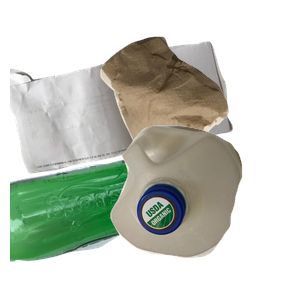glass: (10, 149, 203, 300)
paper: (10, 39, 236, 205)
plastic: (108, 123, 300, 300)
trash: (98, 34, 300, 211)
